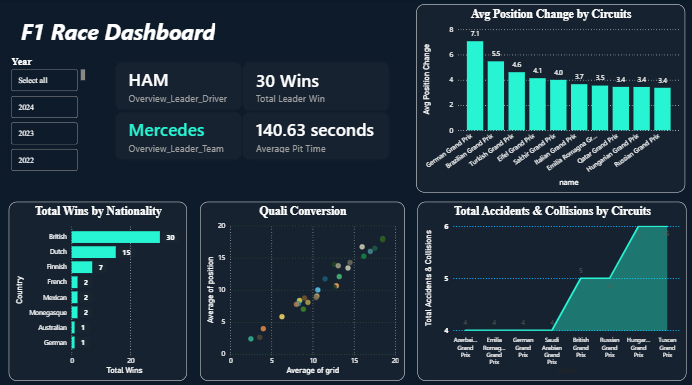

Layout of this report page (visuals, bound fields, positions):
{"tool":"powerbi","page":{"name":"Page 1","canvas":[1280,720],"ordinal":0},"visuals":[{"type":"clusteredBarChart","title":"Total Wins by Nationality","fields":{"Category":["drivers.nationality"],"Y":["results.Total Wins"]},"box":[16.3,375.5,328.6,330.6],"z":0},{"type":"areaChart","title":"Total Accidents & Collisions by Circuits","fields":{"Category":["races.name"],"Y":["results.Total Accidents & Collisions"]},"box":[769.4,375.5,495.9,330.6],"z":1000},{"type":"advancedSlicerVisual","title":"Year","fields":{"Values":["races.year"]},"box":[16.3,106.1,146.9,220.4],"z":2000},{"type":"clusteredColumnChart","title":"Avg Position Change by Circuits","fields":{"Category":["races.name"],"Y":["results.Avg Position Change"]},"box":[767.3,12.2,495.9,346.9],"z":3000},{"type":"scatterChart","title":"Quali Conversion","fields":{"Y":["Avg(results.position)"],"X":["Avg(results.grid)"],"Category":["drivers.code"]},"box":[369.4,375.5,377.6,330.6],"z":4000},{"type":"cardVisual","fields":{"Data":["results.Overview_Leader_Driver"]},"box":[212.2,118,234.7,89.8],"z":5000},{"type":"cardVisual","fields":{"Data":["results.Overview_Leader_Wins"]},"box":[446.9,118,271.4,91.8],"z":6000},{"type":"cardVisual","title":"ss","fields":{"Data":["results.Overview_Total_Drivers"]},"box":[446.9,209.8,271.4,89.8],"z":7000},{"type":"cardVisual","fields":{"Data":["results.Overview_Leader_Team"]},"box":[212.2,209.8,234.7,89.8],"z":8000},{"type":"shape","title":"F1 Race Dashboard","box":[20.4,0,393.9,122.4],"z":9000}]}

Visuals, with their boxes in screenshot pixels (x1, y1, x2, y2), scaled from the page's 1280x720 canvas onto the 692x385 screenshot:
"Total Wins by Nationality" clusteredBarChart: crop(9, 201, 186, 378)
"Total Accidents & Collisions by Circuits" areaChart: crop(416, 201, 684, 378)
"Year" advancedSlicerVisual: crop(9, 57, 88, 175)
"Avg Position Change by Circuits" clusteredColumnChart: crop(415, 7, 683, 192)
"Quali Conversion" scatterChart: crop(200, 201, 404, 378)
cardVisual - results.Overview_Leader_Driver: crop(115, 63, 242, 111)
cardVisual - results.Overview_Leader_Wins: crop(242, 63, 388, 112)
"ss" cardVisual: crop(242, 112, 388, 160)
cardVisual - results.Overview_Leader_Team: crop(115, 112, 242, 160)
"F1 Race Dashboard" shape: crop(11, 0, 224, 65)
